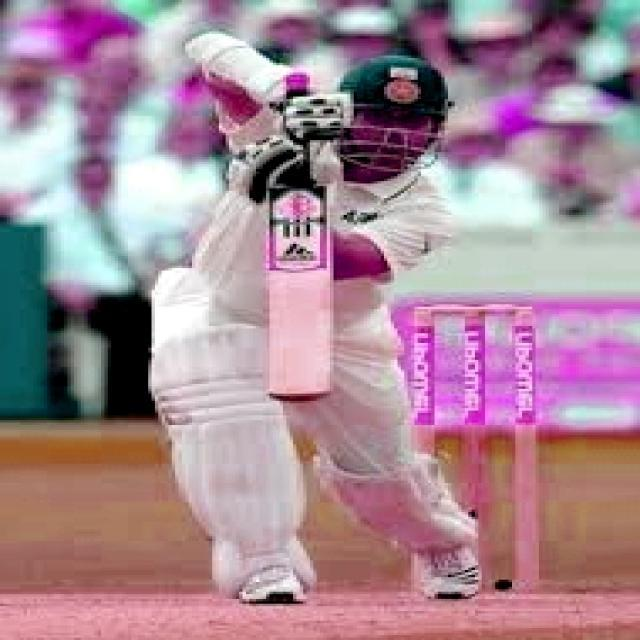bat: (266, 186, 335, 405)
toe: (259, 385, 350, 409)
